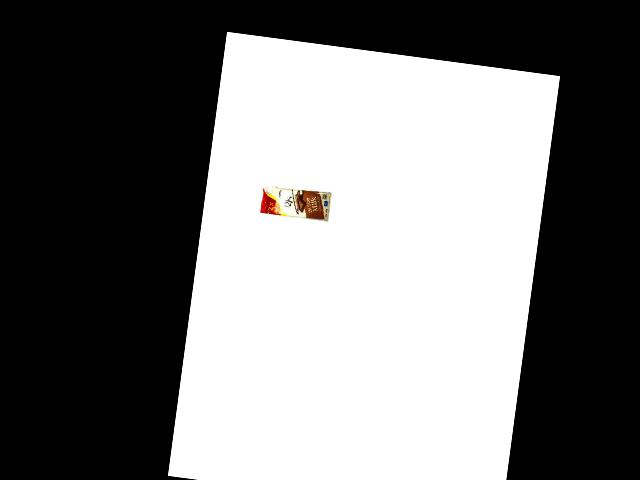chocolate: (258, 182, 330, 223)
